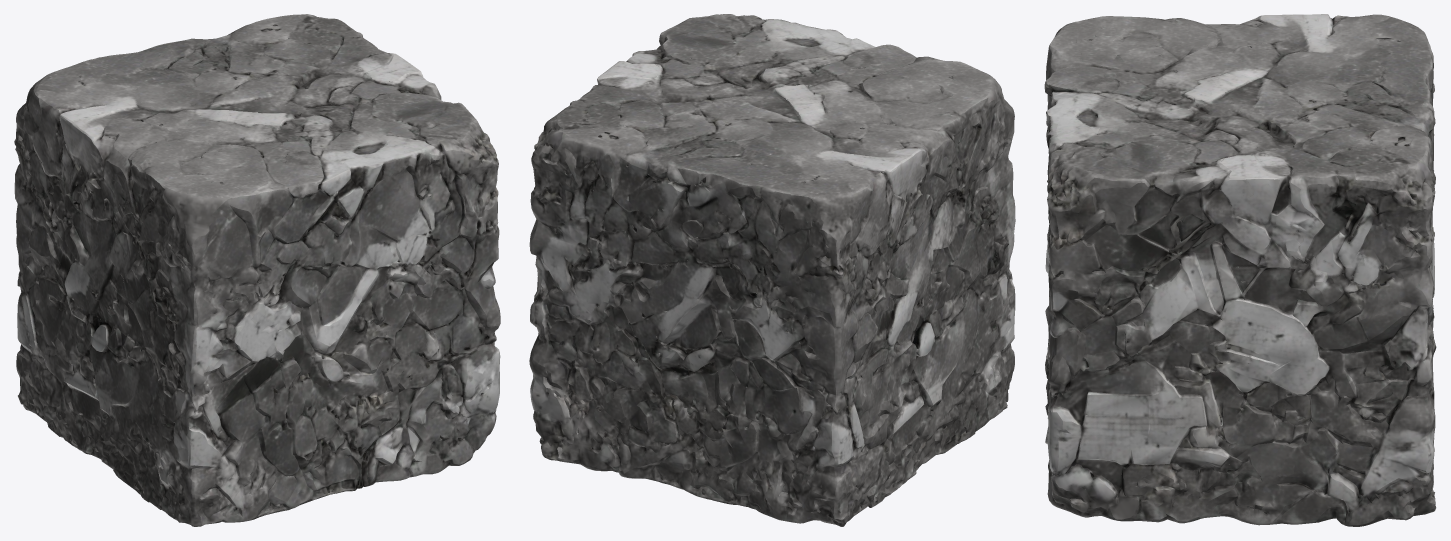
Rendered from rock-microstructure-v18.glb.
3 renders of one model, left to right at view 1: azimuth 30°, elevation 25°; view 2: azimuth 150°, elevation 25°; view 3: azimuth 270°, elevation 25°, orthographic. The views are drawn at different scales.
Visible parts, largest first — view 1: geometry_0; view 2: geometry_0; view 3: geometry_0.
Part boxes in pixels (x1=…): geometry_0: x1=14, y1=14, x2=500, y2=526; geometry_0: x1=529, y1=14, x2=1015, y2=526; geometry_0: x1=1044, y1=14, x2=1436, y2=526.
Bounding box in the file's own units: 0.1199 × 0.1193 × 0.1197.
1 material, 1 textured.
